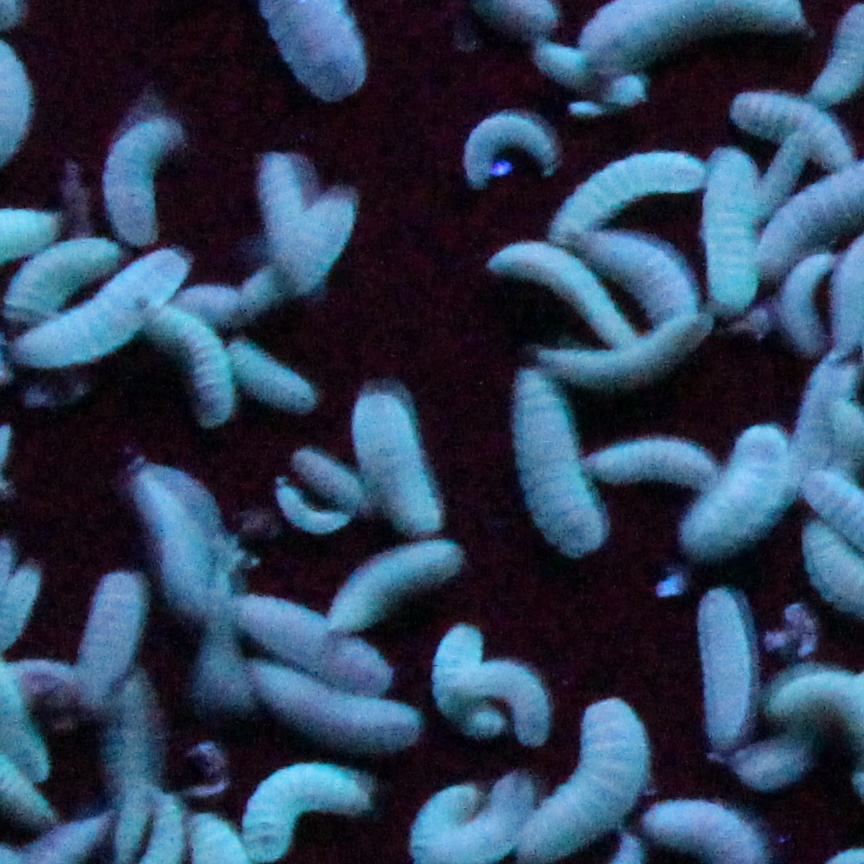larve: (8, 247, 200, 372), (513, 368, 608, 560), (247, 659, 427, 755), (485, 239, 638, 350), (235, 588, 392, 696), (675, 424, 800, 559), (536, 305, 714, 396), (321, 539, 466, 647), (127, 465, 228, 619), (550, 151, 706, 242), (250, 148, 332, 310), (352, 388, 440, 531), (103, 671, 164, 862), (577, 231, 696, 328), (143, 308, 237, 428), (272, 181, 360, 305), (101, 116, 181, 251), (73, 567, 146, 711), (695, 584, 753, 760), (731, 90, 858, 170), (786, 345, 856, 485), (455, 658, 556, 751), (577, 432, 720, 495), (432, 619, 507, 738), (465, 106, 558, 192), (530, 39, 645, 105), (733, 710, 818, 791), (740, 127, 807, 229), (223, 340, 316, 408), (291, 446, 377, 519), (274, 478, 361, 540), (785, 254, 833, 357), (166, 281, 250, 329)
